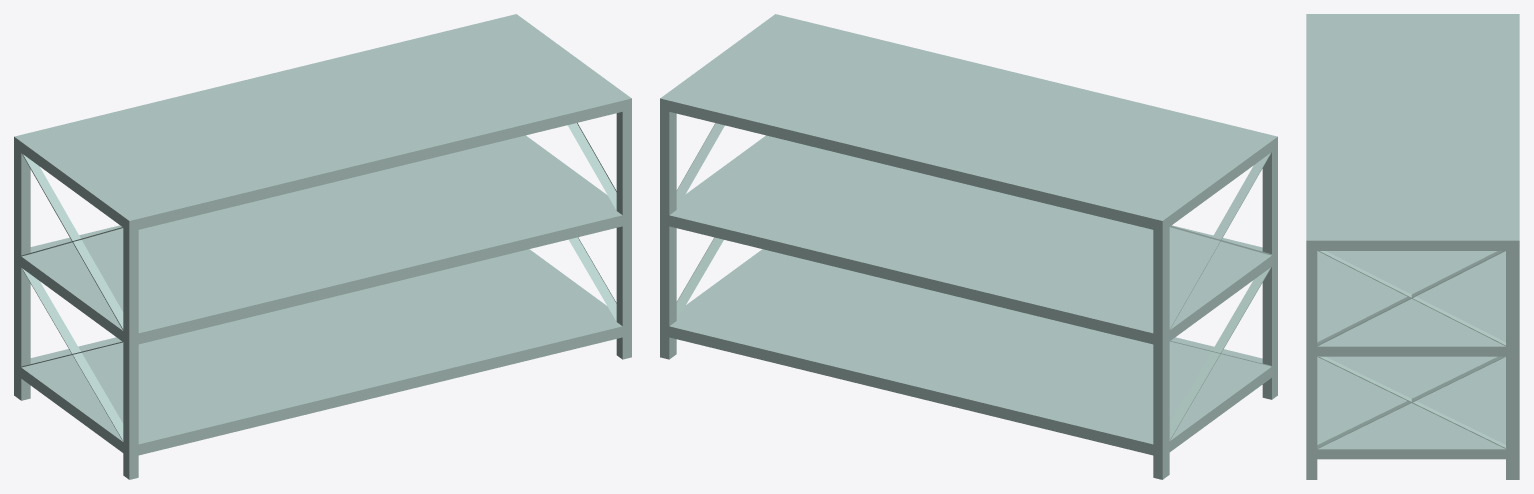
The model's file is Shelve.fbx.
3 views of the same model, side by side, from view 1: azimuth 30°, elevation 25°; view 2: azimuth 150°, elevation 25°; view 3: azimuth 270°, elevation 25° (orthographic). The views are drawn at different scales.
Parts seen in each view (by area): view 1: ThreeShelveUnit.001; view 2: ThreeShelveUnit.001; view 3: ThreeShelveUnit.001.
Boxes of the visible parts, x1=… form: ThreeShelveUnit.001: x1=14, y1=14, x2=631, y2=479; ThreeShelveUnit.001: x1=660, y1=14, x2=1277, y2=479; ThreeShelveUnit.001: x1=1306, y1=14, x2=1519, y2=479.
Size of the model in its own units: 2367 by 1166 by 942.
